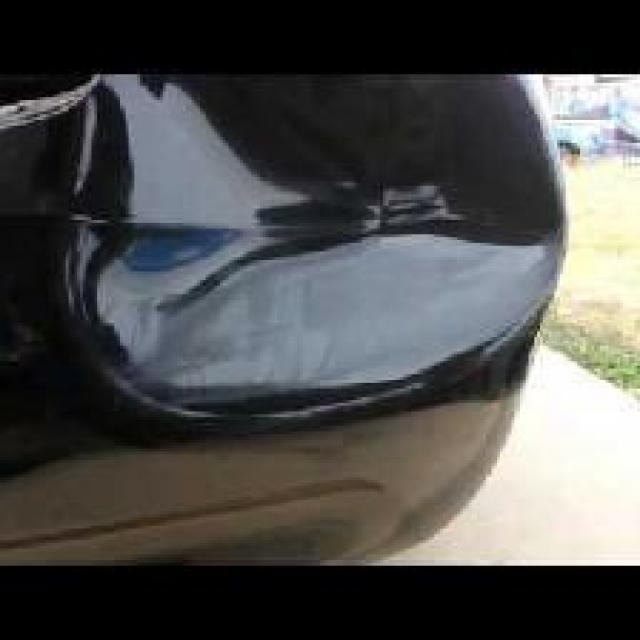damaged: (71, 74, 572, 440)
